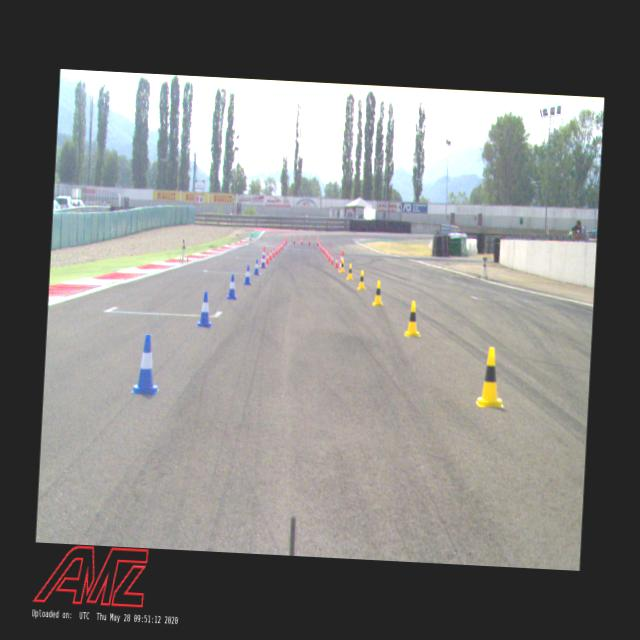blue_cone: (131, 333, 163, 396), (196, 290, 214, 328), (226, 274, 238, 300), (244, 265, 252, 285), (252, 259, 260, 275), (260, 255, 267, 269)
large_orange_cone: (338, 250, 347, 273), (259, 246, 268, 268), (284, 234, 288, 244), (294, 234, 296, 244), (301, 234, 303, 244), (308, 235, 310, 245), (316, 236, 318, 246)
orange_cone: (265, 251, 270, 264), (334, 256, 339, 268), (329, 253, 334, 265), (268, 249, 272, 261)
yellow_cone: (475, 346, 507, 409), (404, 300, 422, 338), (372, 280, 385, 308), (356, 269, 366, 291), (346, 264, 354, 280), (340, 260, 346, 274)
